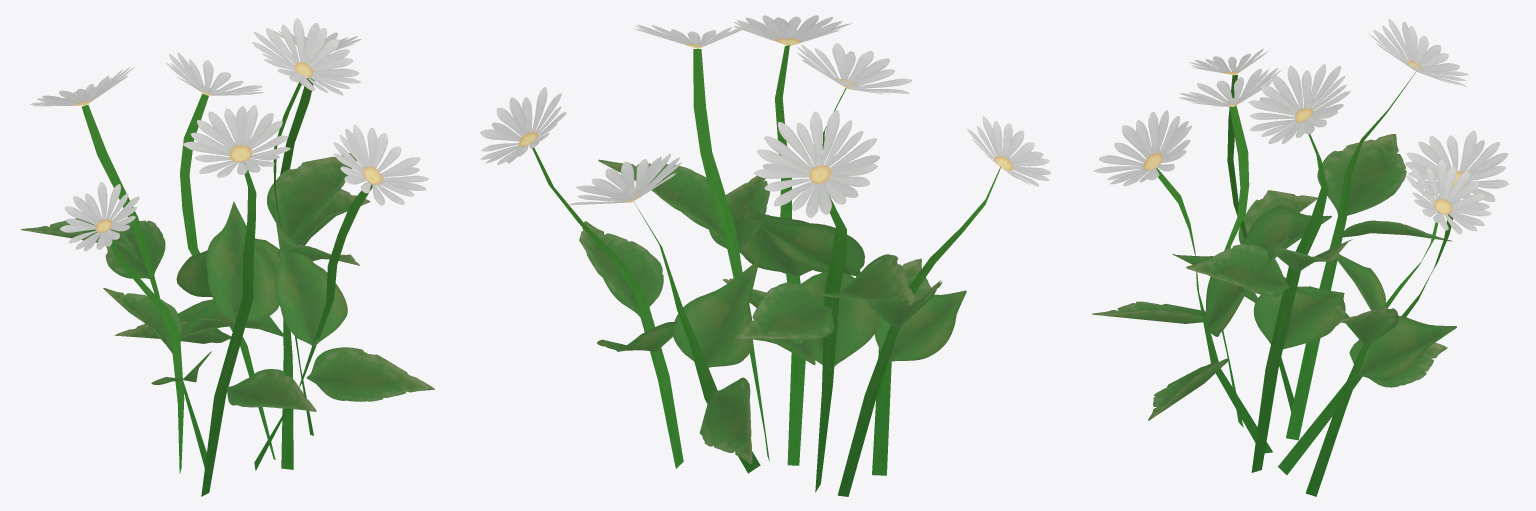
The model's file is MSH_fwOF_Flowers_02_C.fbx.
3 renders of one model, left to right at view 1: azimuth 30°, elevation 25°; view 2: azimuth 150°, elevation 25°; view 3: azimuth 270°, elevation 25°, orthographic. The views are drawn at different scales.
Visible parts, largest first — view 1: MSH_fwOF_Flowers_02_C; view 2: MSH_fwOF_Flowers_02_C; view 3: MSH_fwOF_Flowers_02_C.
Part boxes in pixels (left/top/right/bottom): MSH_fwOF_Flowers_02_C: left=21, top=18, right=434, bottom=496; MSH_fwOF_Flowers_02_C: left=480, top=15, right=1050, bottom=496; MSH_fwOF_Flowers_02_C: left=1092, top=18, right=1508, bottom=496.
Bounding box in the file's own units: 0.4037 × 0.3961 × 0.3799.
